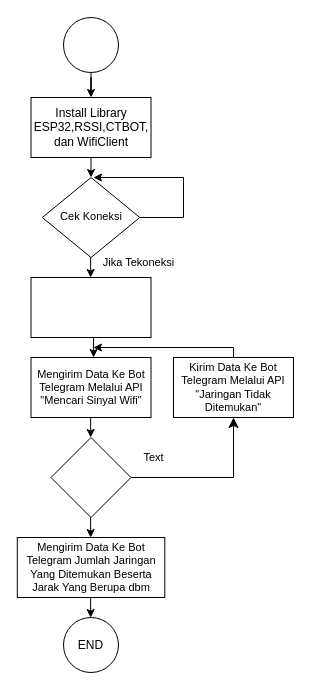
Image size: 312x690. Some labels were removed from this diagram. The shapes that lost their labels are listed below. From the top down, each one's centre as x and y in pixels, then its label:
pixel 90 44: START
pixel 90 307: LED Akan Menyala
pixel 90 477: Mencari Jaringan Wifi
